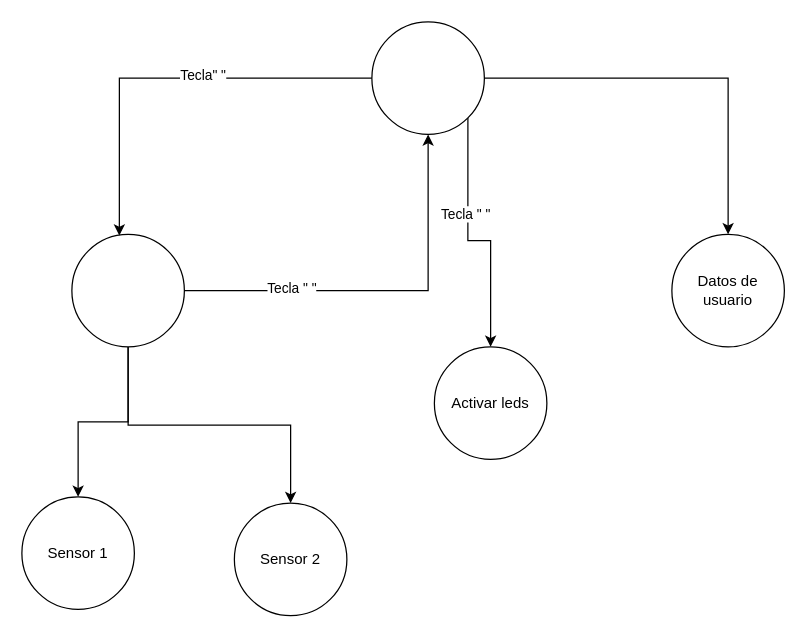
Some shapes in this 806 by 638 pixel diagram are drawn without their labels. The centre of each missing label's shape, as x and y in pixels:
Leer sensores: the point at 127,290
Pantalla de inicio: the point at 427,77
